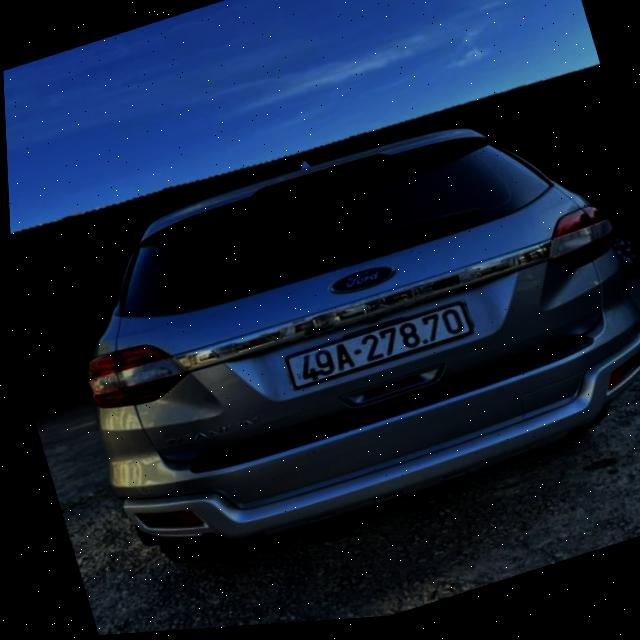car: (21, 32, 640, 594)
plate: (270, 284, 488, 404)
